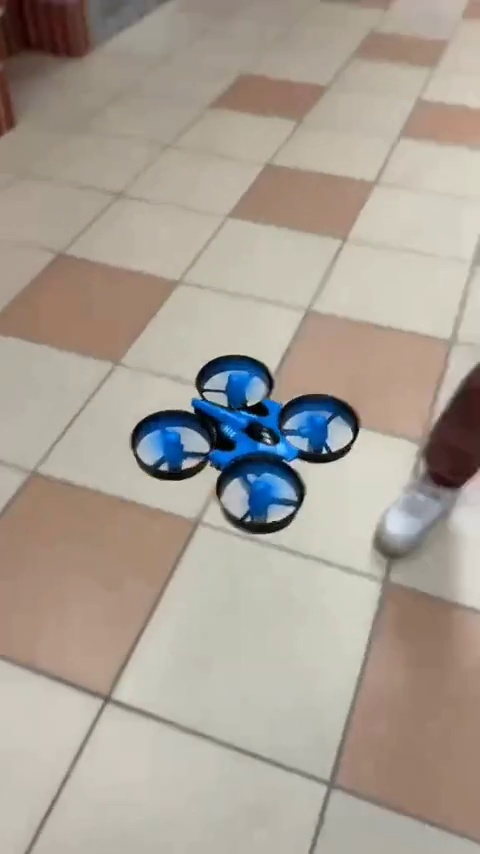drone: (129, 352, 364, 530)
